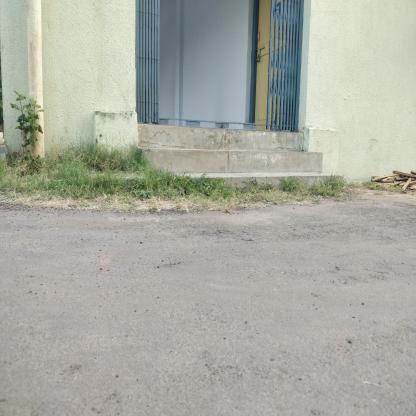stairs: (163, 134, 309, 209)
